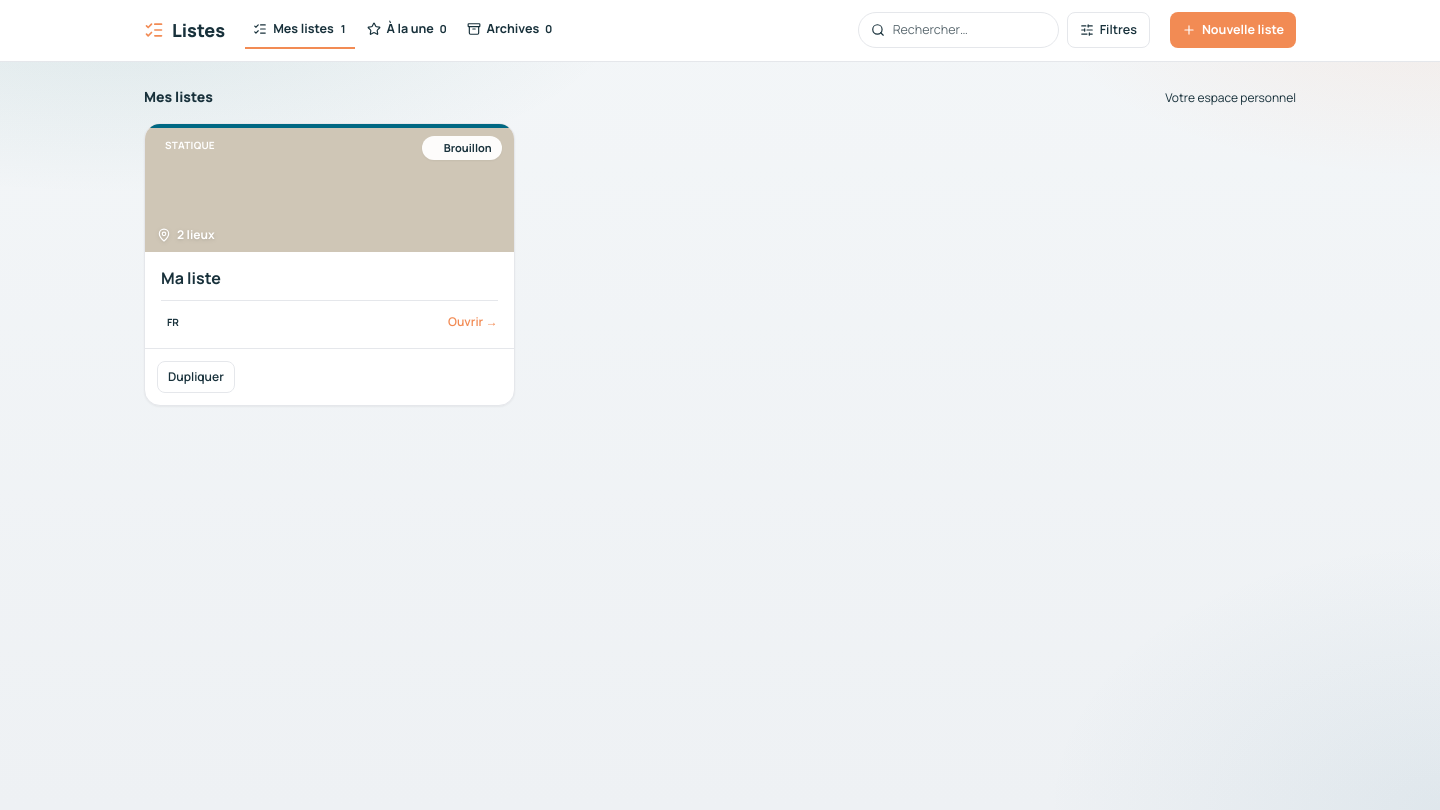
Test: ListsManageView — Archives et restauration › une liste à la une n’apparaît jamais dans Archives même si elle a un statut d’ancienneté
The width and height of the screenshot is (1440, 810).
Click the tab "Archives 0" at (509, 30), box x1=459 y1=12 x2=560 y2=49
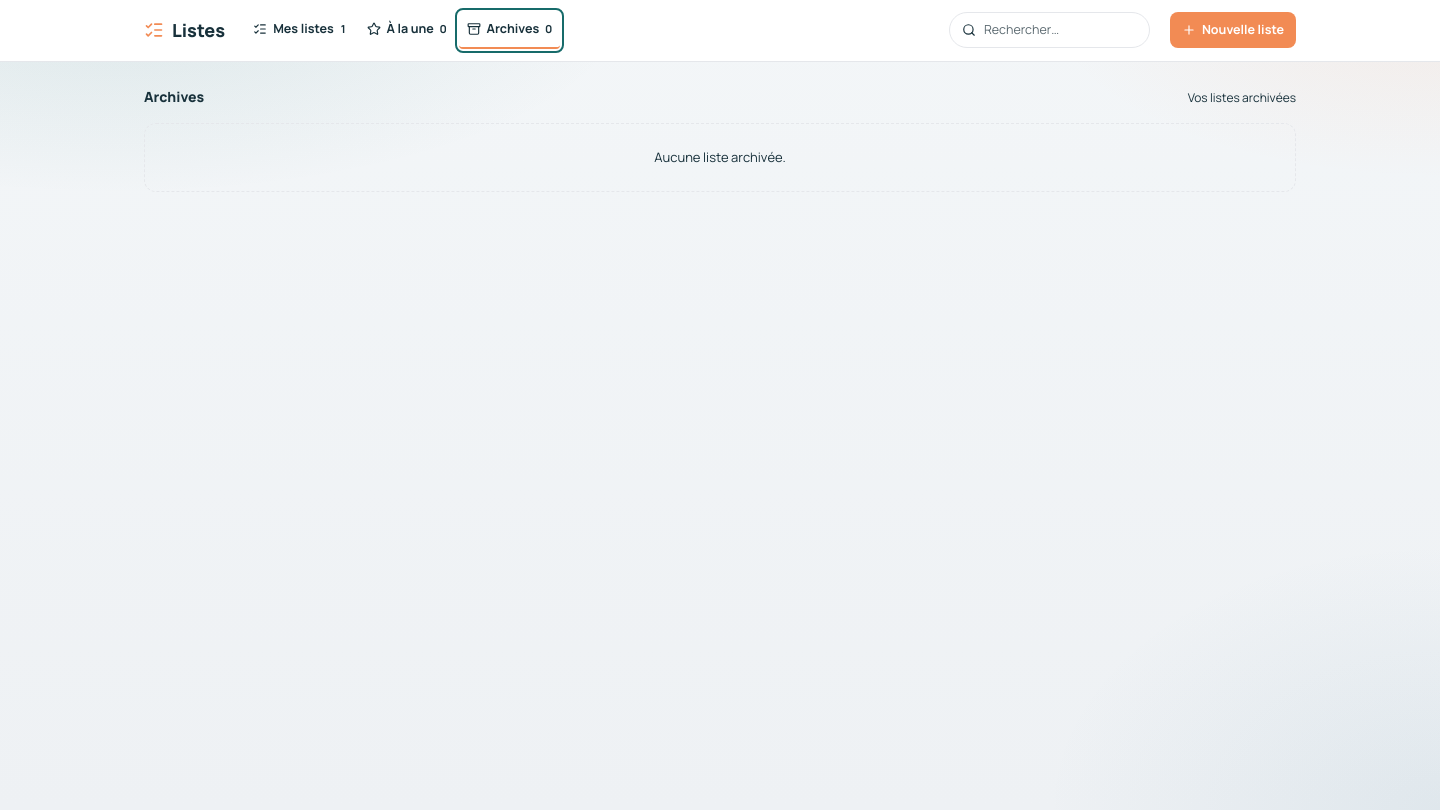
Result: the text "Aucune liste archivée." is shown at x1=144 y1=123 x2=1296 y2=192
